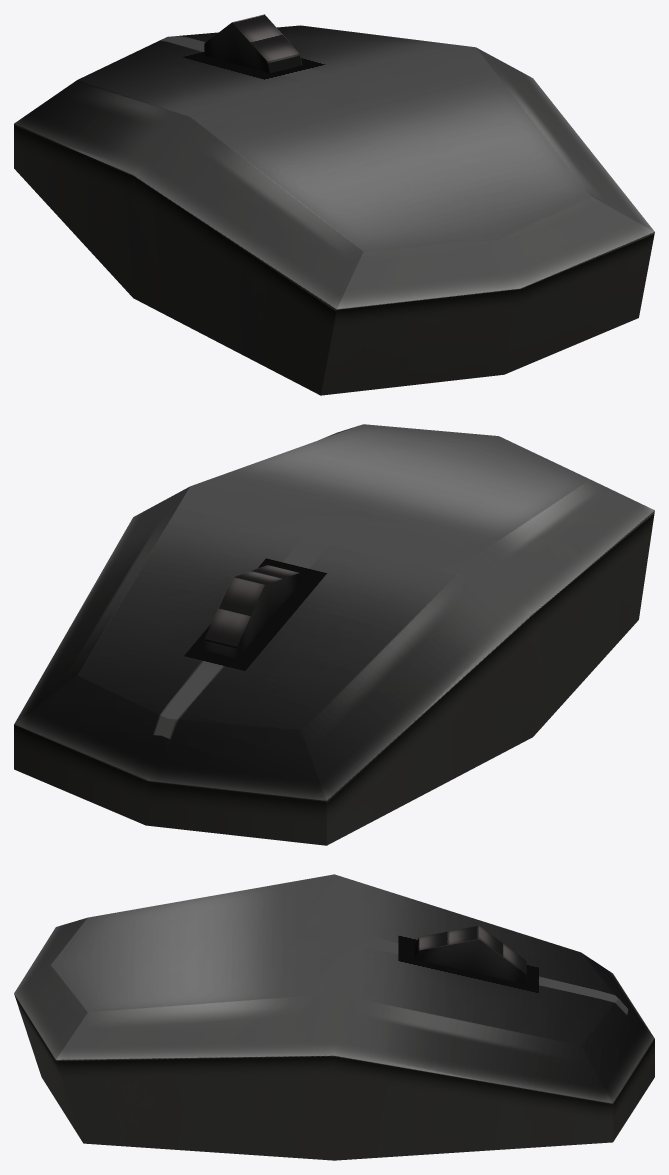
Rendered from mouse.fbx.
3 views of the same model, one above another, from view 1: azimuth 30°, elevation 25°; view 2: azimuth 150°, elevation 25°; view 3: azimuth 270°, elevation 25° (orthographic). The views are drawn at different scales.
Visible parts, largest first — view 1: mouse; view 2: mouse; view 3: mouse.
Boxes of the visible parts, <box> form: mouse: <box>14,14,654,395</box>; mouse: <box>14,424,654,845</box>; mouse: <box>14,874,654,1160</box>.
Size of the model in its own units: 1.29 by 0.5196 by 2.09.
